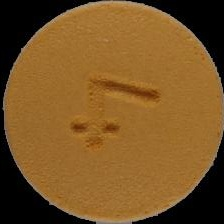68382-112: (0, 0, 224, 224)
